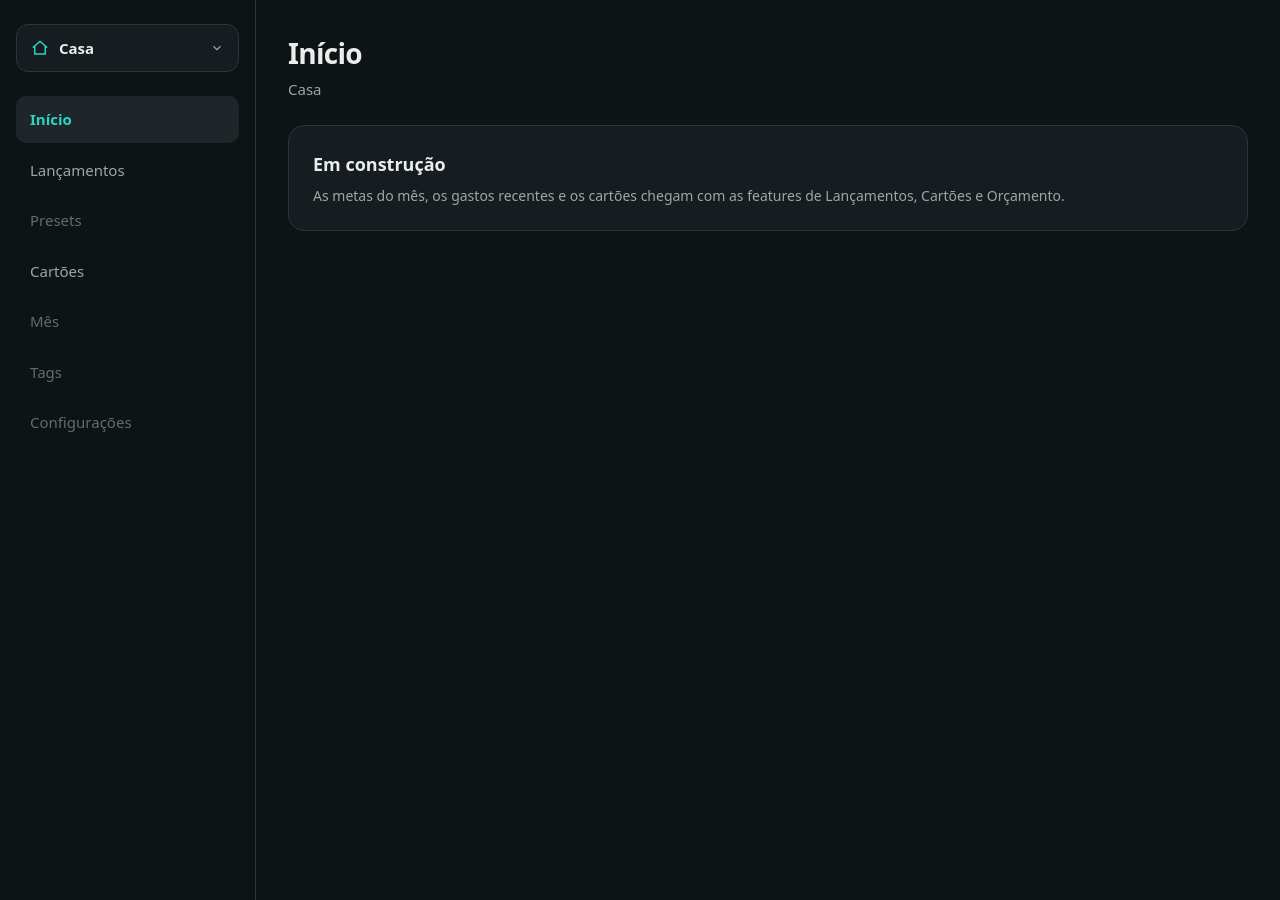
Scenario: AppShell › fecha o seletor com Esc e devolve o foco ao botão
Step 1. Click the button with aria-label "Trocar de espaço, Casa" → (128, 48), box [16,24,239,72]
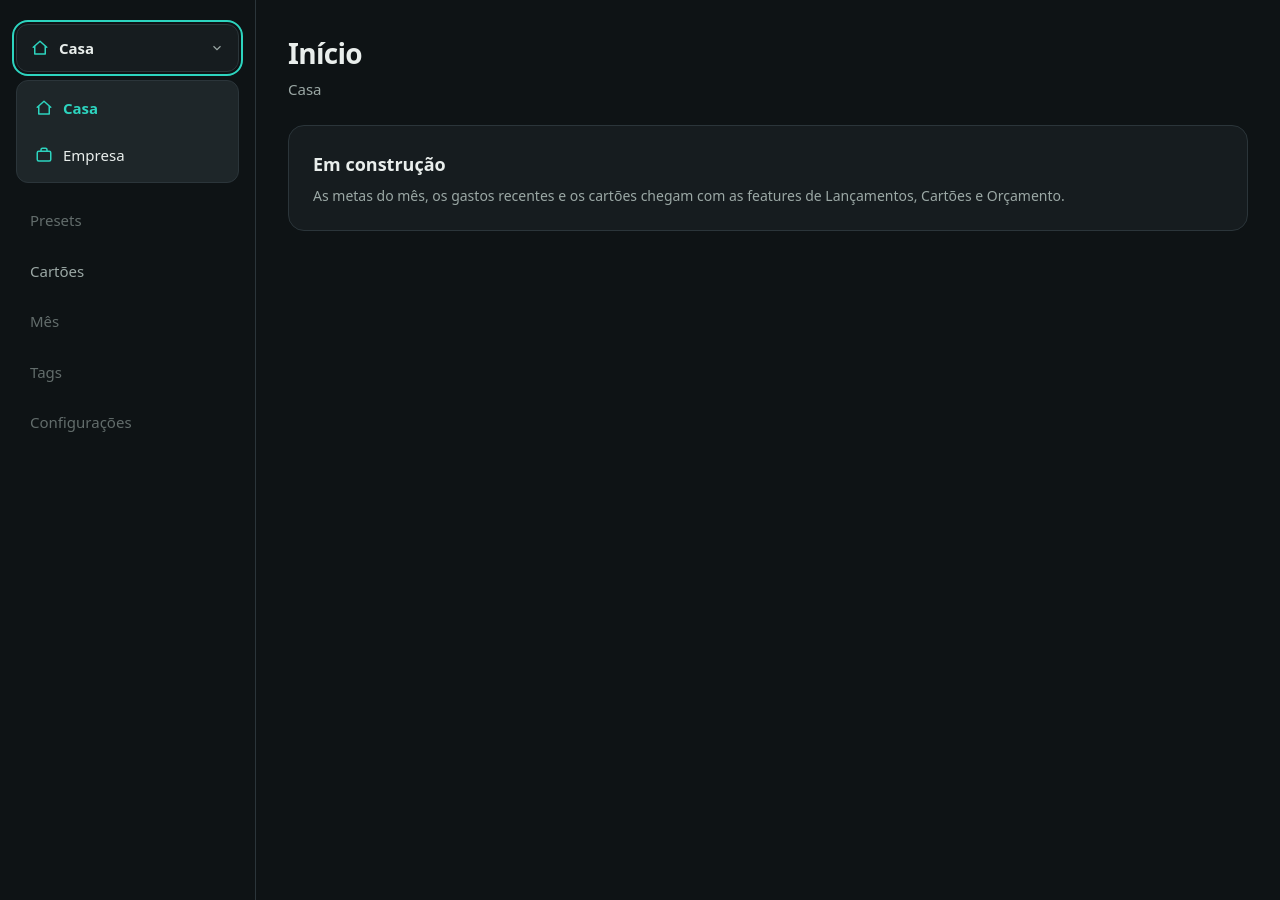
Expected: the link "Empresa" is shown, [35,144,124,164]
Step 2. Press Escape
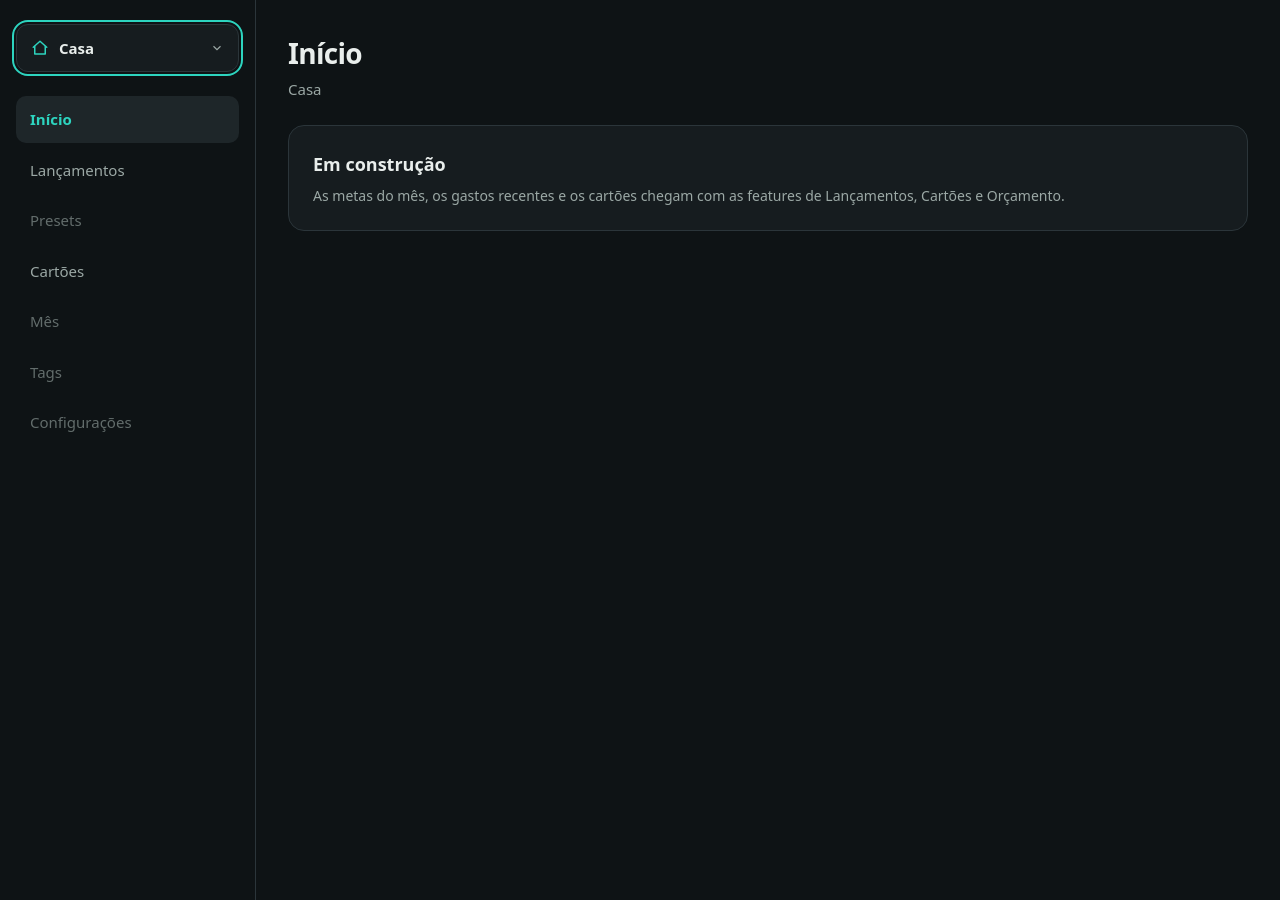
Expected: the link "Empresa" is gone
